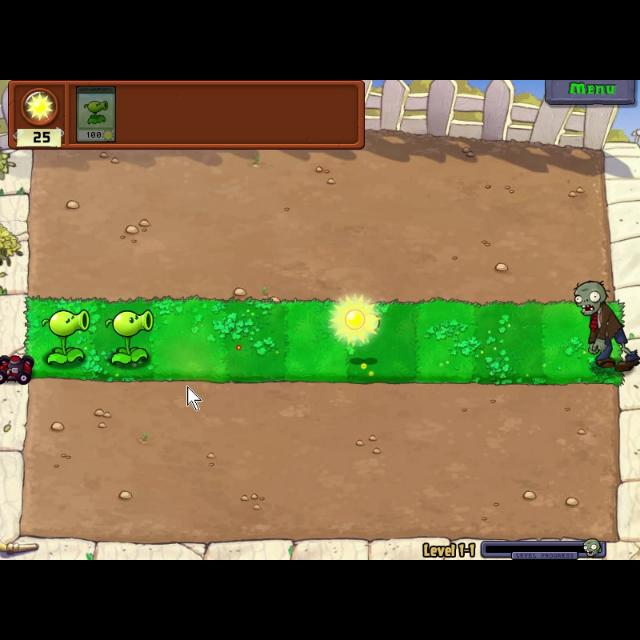Garden: (21, 295, 624, 389)
Menu Button: (546, 80, 638, 106)
Mower: (0, 349, 34, 388)
Peashooter: (75, 82, 117, 144)
Peashooter Seed: (100, 304, 158, 372), (38, 307, 94, 367)
Seed Panel: (8, 80, 368, 152)
Sun: (328, 291, 380, 349)
Zombie: (570, 274, 640, 374)
